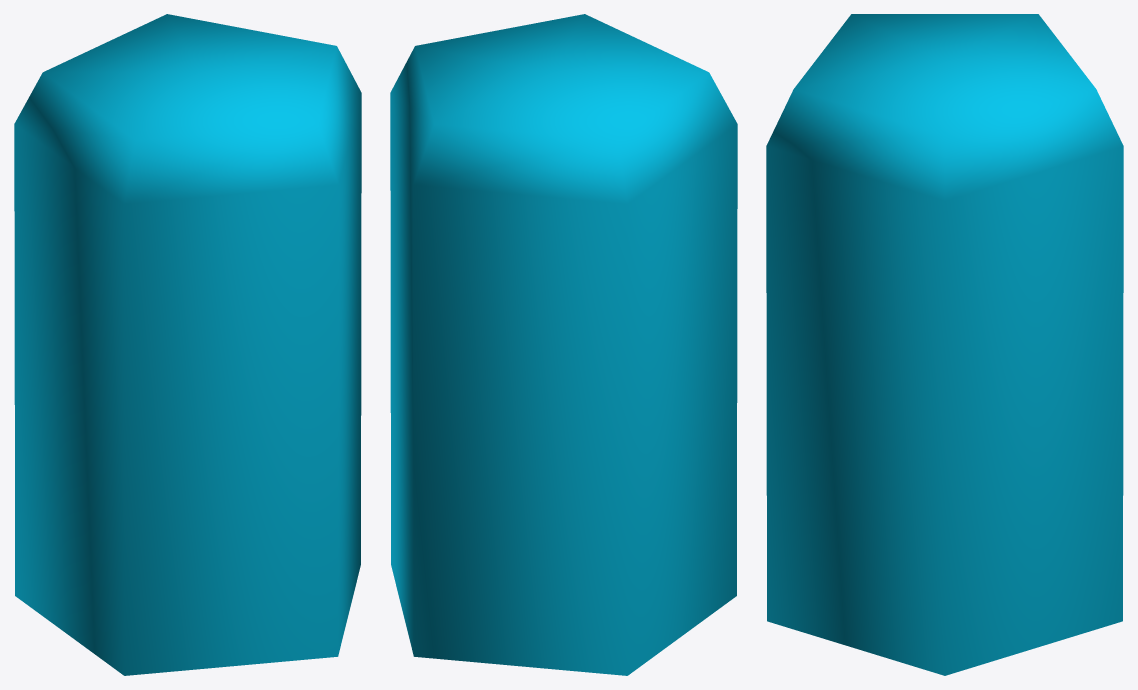
File: Soda_Can_01_Lod2.fbx
3 views of the same model, side by side, from view 1: azimuth 30°, elevation 25°; view 2: azimuth 150°, elevation 25°; view 3: azimuth 270°, elevation 25° (orthographic).
Parts seen in each view (by area): view 1: Soda_Can_01_Lod2; view 2: Soda_Can_01_Lod2; view 3: Soda_Can_01_Lod2.
Boxes of the visible parts, x1,y1,x2,y2 form: Soda_Can_01_Lod2: (14, 14, 361, 675); Soda_Can_01_Lod2: (390, 14, 737, 675); Soda_Can_01_Lod2: (766, 14, 1123, 675).
Bounding box in the file's own units: 8.07 × 14.43 × 8.49.
